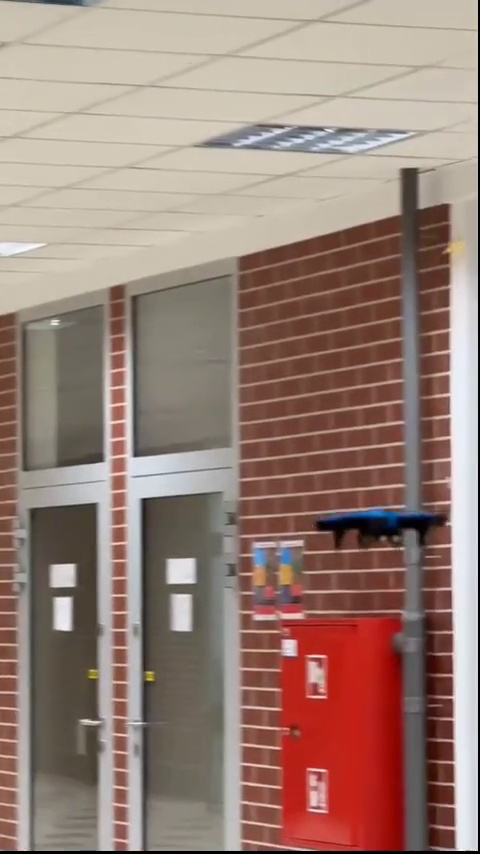drone: (320, 500, 445, 547)
